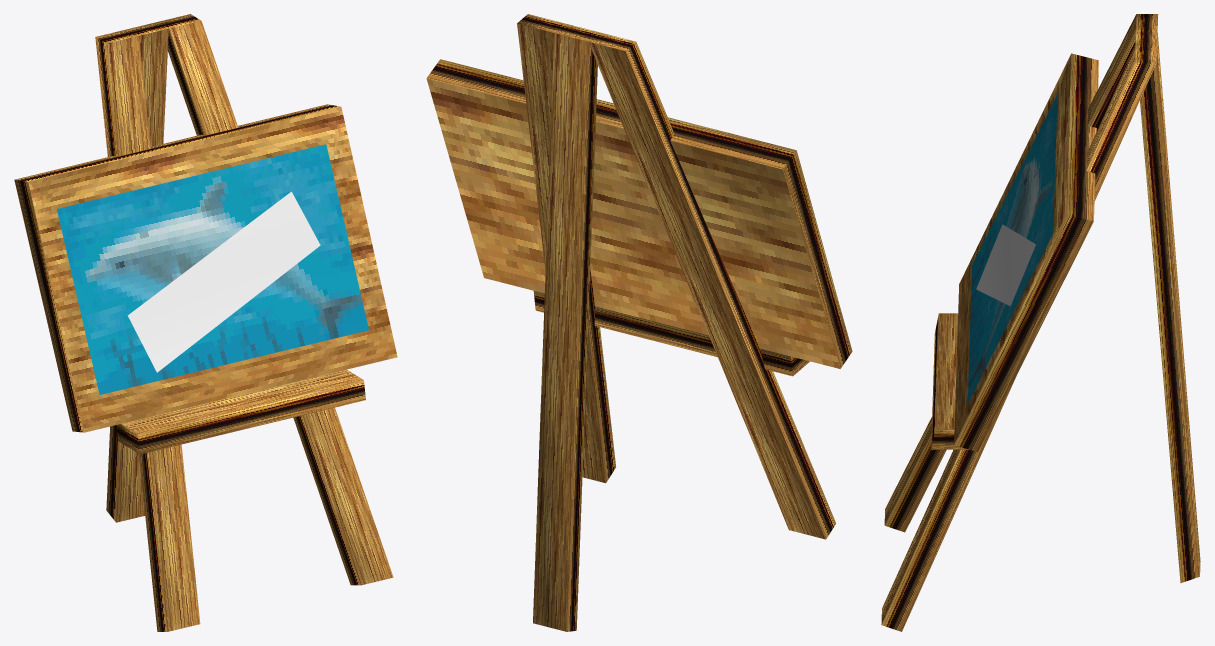
File: sign.obj
3 views of the same model, side by side, from view 1: azimuth 30°, elevation 25°; view 2: azimuth 150°, elevation 25°; view 3: azimuth 270°, elevation 25° (orthographic). The views are drawn at different scales.
Visible parts, largest first — view 1: DrawCall_7, DrawCall_9, DrawCall_8, DrawCall_10; view 2: DrawCall_7, DrawCall_8; view 3: DrawCall_8, DrawCall_7, DrawCall_9, DrawCall_10.
Part boxes in pixels (x1,y1,x2,y2): DrawCall_7: (28,21,397,631); DrawCall_9: (57,144,368,394); DrawCall_8: (14,14,365,631); DrawCall_10: (127,191,320,372); DrawCall_7: (426,23,840,631); DrawCall_8: (427,14,852,631); DrawCall_8: (881,14,1199,631); DrawCall_7: (881,14,1200,624); DrawCall_9: (967,95,1057,403); DrawCall_10: (976,224,1035,306).
Size of the model in its own units: 8.07 by 12.27 by 6.59.
